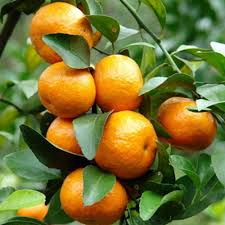orange: (93, 112, 160, 179), (53, 167, 130, 222), (25, 3, 95, 63), (156, 89, 218, 154), (35, 59, 95, 119), (93, 52, 149, 115), (44, 108, 97, 165)
